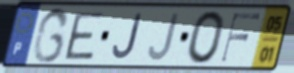E: (63, 10, 107, 62)
F: (218, 12, 263, 65)
G: (30, 6, 71, 66)
J: (147, 11, 182, 63), (111, 12, 145, 61)
O: (185, 8, 227, 66)
